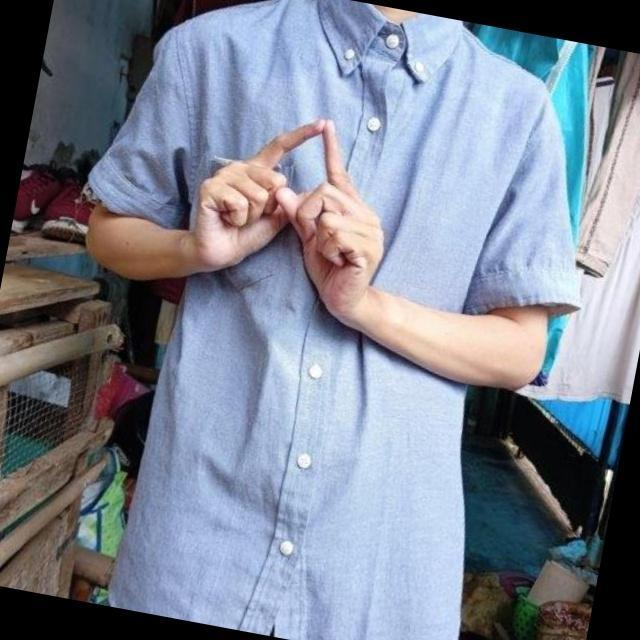A: (190, 116, 382, 314)
